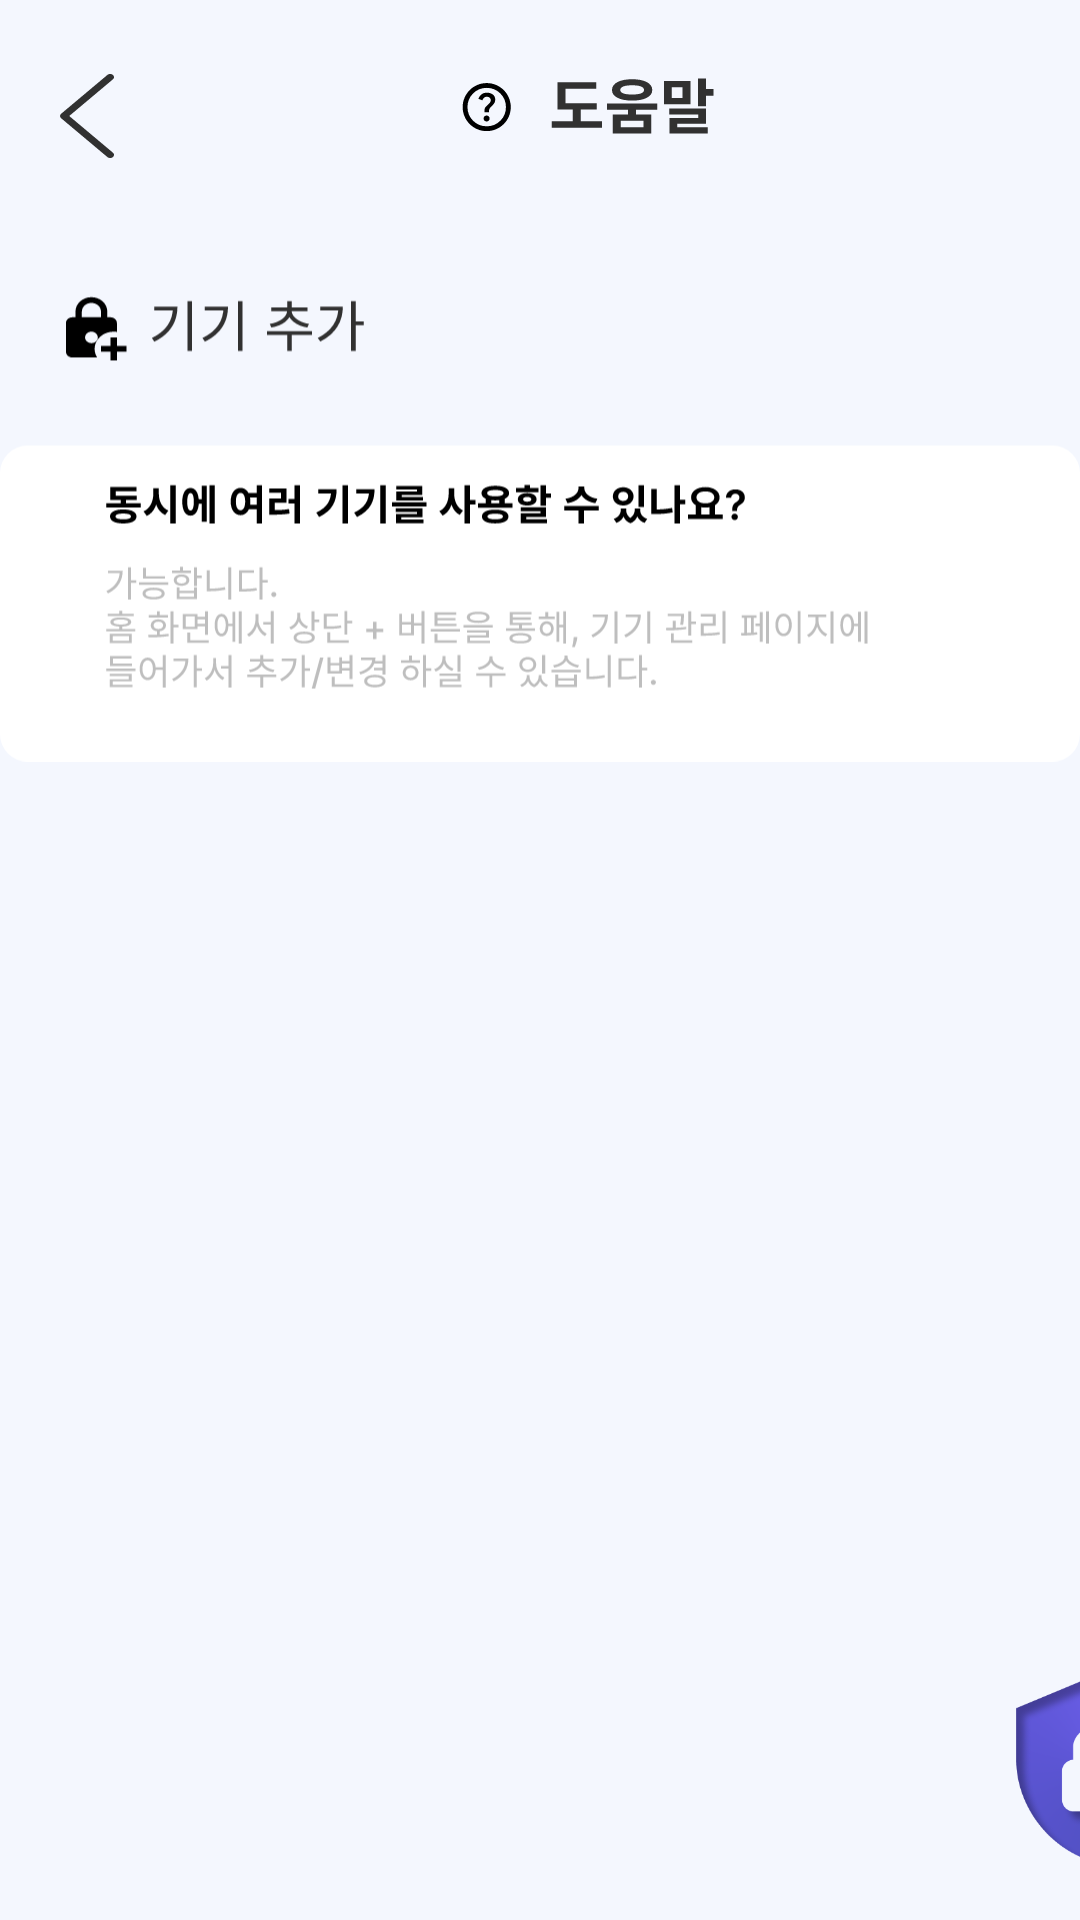

Named icons in this screenshot (1080x1920) and their bounding boxes, (x1, y1, x2, y2):
back: (60, 74, 114, 158)
